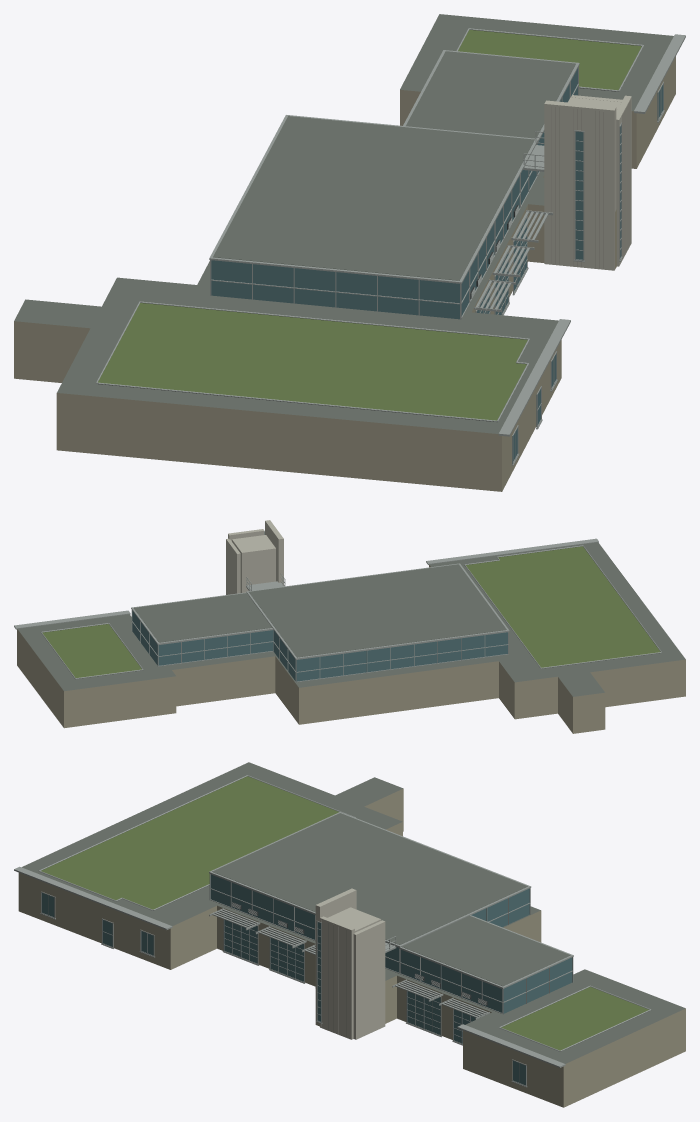
Rendered from winding-trail-1355-local.glb.
3 renders of one model, top to bottom at view 1: azimuth 30°, elevation 25°; view 2: azimuth 150°, elevation 25°; view 3: azimuth 270°, elevation 25°, orthographic. The views are drawn at different scales.
Parts seen in each view (by area): view 1: Winding-Trail-exterior-study--roof, Winding-Trail-exterior-study--green, Winding-Trail-exterior-study--brick, Winding-Trail-exterior-study--metal, Winding-Trail-exterior-study--glass, Winding-Trail-exterior-study--concrete, Winding-Trail-exterior-study--joint; view 2: Winding-Trail-exterior-study--roof, Winding-Trail-exterior-study--brick, Winding-Trail-exterior-study--green, Winding-Trail-exterior-study--glass, Winding-Trail-exterior-study--metal, Winding-Trail-exterior-study--concrete; view 3: Winding-Trail-exterior-study--roof, Winding-Trail-exterior-study--green, Winding-Trail-exterior-study--brick, Winding-Trail-exterior-study--glass, Winding-Trail-exterior-study--metal, Winding-Trail-exterior-study--concrete.
Boxes of the visible parts, <box> form: Winding-Trail-exterior-study--roof: <box>14,14,673,433</box>; Winding-Trail-exterior-study--green: <box>98,29,641,420</box>; Winding-Trail-exterior-study--brick: <box>14,56,675,491</box>; Winding-Trail-exterior-study--metal: <box>96,28,685,465</box>; Winding-Trail-exterior-study--glass: <box>211,68,663,463</box>; Winding-Trail-exterior-study--concrete: <box>544,95,631,270</box>; Winding-Trail-exterior-study--joint: <box>551,100,630,268</box>; Winding-Trail-exterior-study--roof: <box>17,542,685,696</box>; Winding-Trail-exterior-study--brick: <box>17,565,685,733</box>; Winding-Trail-exterior-study--green: <box>42,546,660,677</box>; Winding-Trail-exterior-study--glass: <box>132,532,507,681</box>; Winding-Trail-exterior-study--metal: <box>14,538,661,682</box>; Winding-Trail-exterior-study--concrete: <box>226,520,283,594</box>; Winding-Trail-exterior-study--roof: <box>22,762,685,1063</box>; Winding-Trail-exterior-study--green: <box>41,776,648,1050</box>; Winding-Trail-exterior-study--brick: <box>18,788,685,1107</box>; Winding-Trail-exterior-study--glass: <box>42,874,572,1085</box>; Winding-Trail-exterior-study--metal: <box>14,775,650,1087</box>; Winding-Trail-exterior-study--concrete: <box>315,888,385,1039</box>.
Size of the model in its own units: 64.27 by 11.75 by 59.78.
